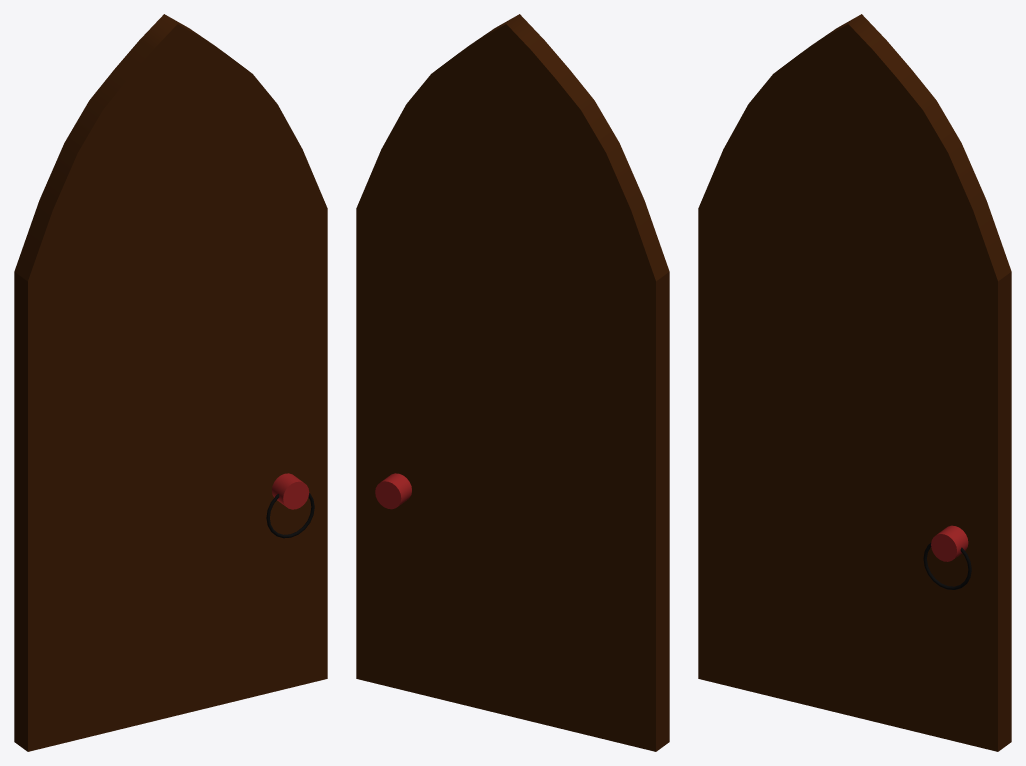
The model's file is doorLarge_02.fbx.
The picture shows the model from 3 angles, left to right: view 1: azimuth 30°, elevation 25°; view 2: azimuth 150°, elevation 25°; view 3: azimuth 330°, elevation 25°; orthographic projection.
Parts seen in each view (by area): view 1: doorLarge; view 2: doorLarge; view 3: doorLarge.
Part boxes in pixels (box(x1,y1,x2,y2)): doorLarge: box(14, 14, 327, 751); doorLarge: box(356, 14, 669, 751); doorLarge: box(698, 14, 1011, 751).
Bounding box in the file's own units: 2 × 4.41 × 0.4125.
